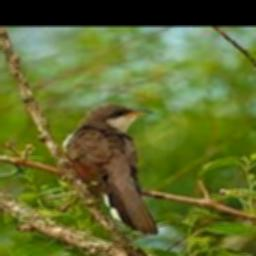Cuckoo: (61, 104, 159, 234)
